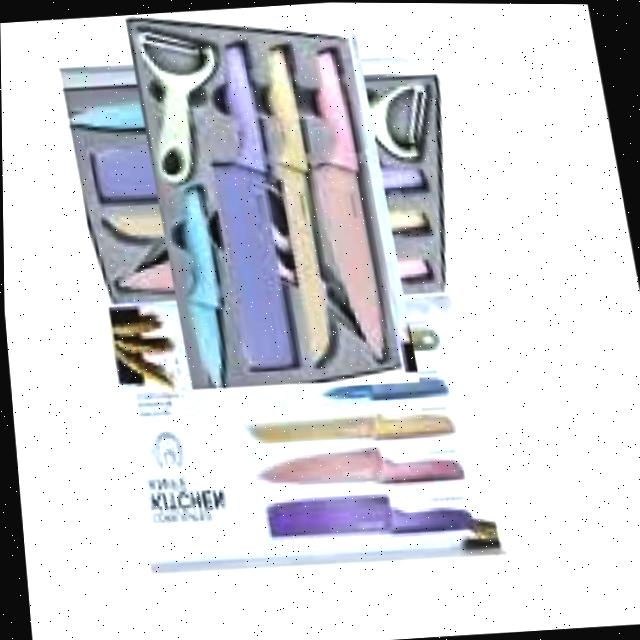knife: (199, 39, 297, 375), (299, 44, 385, 365), (263, 43, 332, 369), (261, 484, 474, 544), (252, 436, 463, 494), (173, 184, 231, 389), (241, 402, 454, 449)
